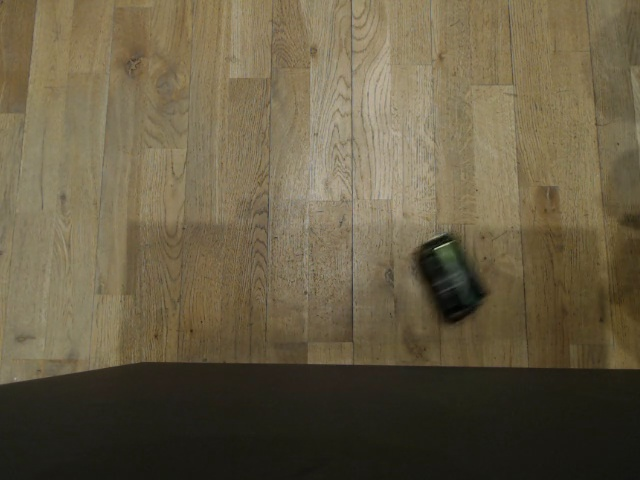beer: (408, 224, 503, 324)
